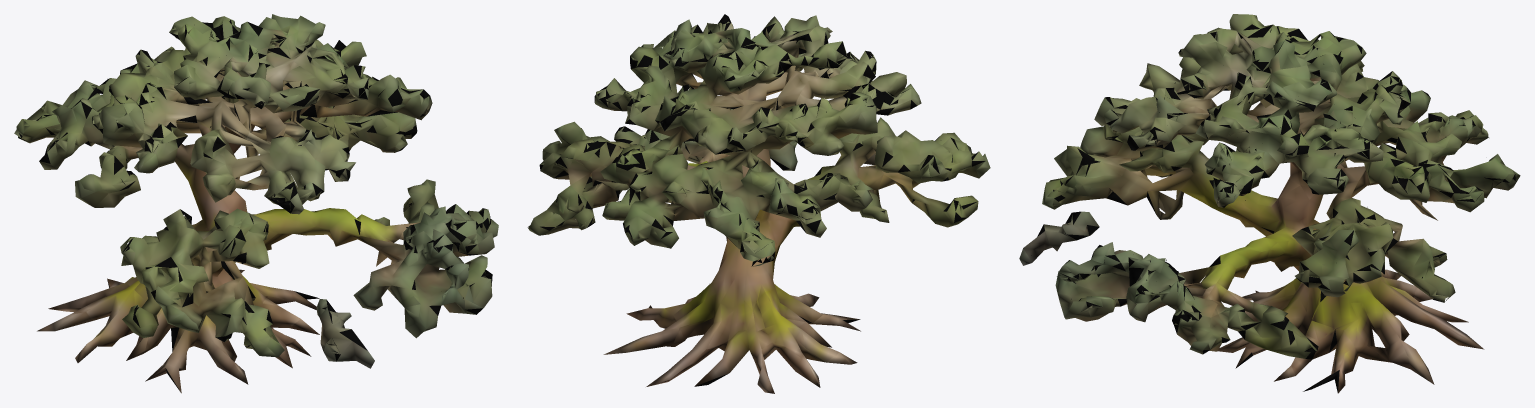
File: tree1.glb
3 views of the same model, side by side, from view 1: azimuth 30°, elevation 25°; view 2: azimuth 150°, elevation 25°; view 3: azimuth 270°, elevation 25° (orthographic). The views are drawn at different scales.
Parts seen in each view (by area): view 1: MV_tree1; view 2: MV_tree1; view 3: MV_tree1.
Boxes of the visible parts, bbox=[...] form: MV_tree1: bbox=[14, 14, 498, 393]; MV_tree1: bbox=[527, 14, 990, 393]; MV_tree1: bbox=[1019, 14, 1520, 393].
Size of the model in its own units: 7.13 by 5.7 by 8.33.
1 material, 1 textured.
